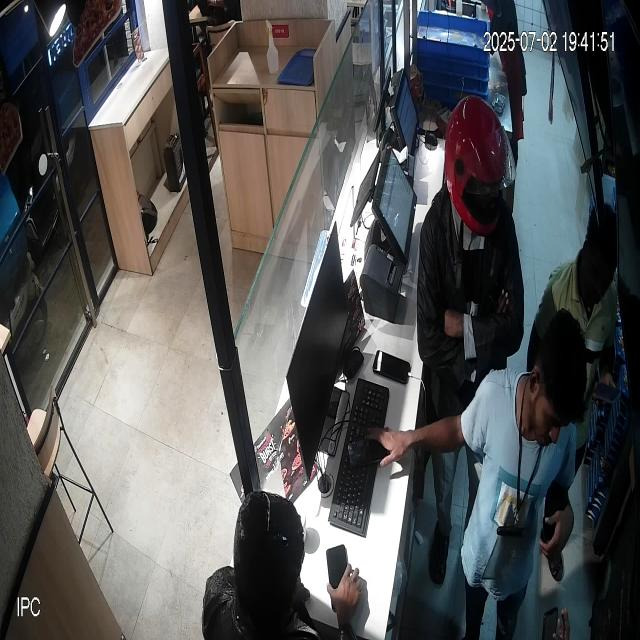helmet: (443, 96, 515, 236)
